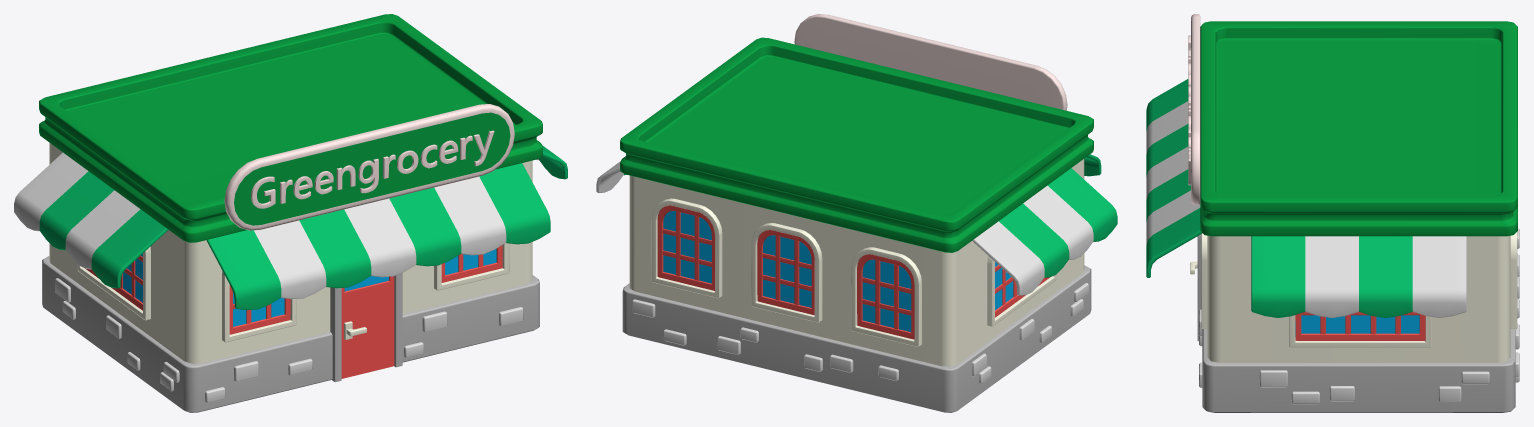
Rendered from Store_10_Greengrocery_Shop_1.glb.
The picture shows the model from 3 angles, left to right: view 1: azimuth 30°, elevation 25°; view 2: azimuth 150°, elevation 25°; view 3: azimuth 270°, elevation 25°; orthographic projection. The views are drawn at different scales.
Parts seen in each view (by area): view 1: Store_10_Greengrocery_Shop_1; view 2: Store_10_Greengrocery_Shop_1; view 3: Store_10_Greengrocery_Shop_1.
Part boxes in pixels (x1,y1,x2,y2): Store_10_Greengrocery_Shop_1: (14,14,567,412); Store_10_Greengrocery_Shop_1: (596,14,1117,412); Store_10_Greengrocery_Shop_1: (1146,14,1519,412).
Bounding box in the file's own units: 11.35 × 5.82 × 7.86.
Materials: 1 (1 with a texture image).
